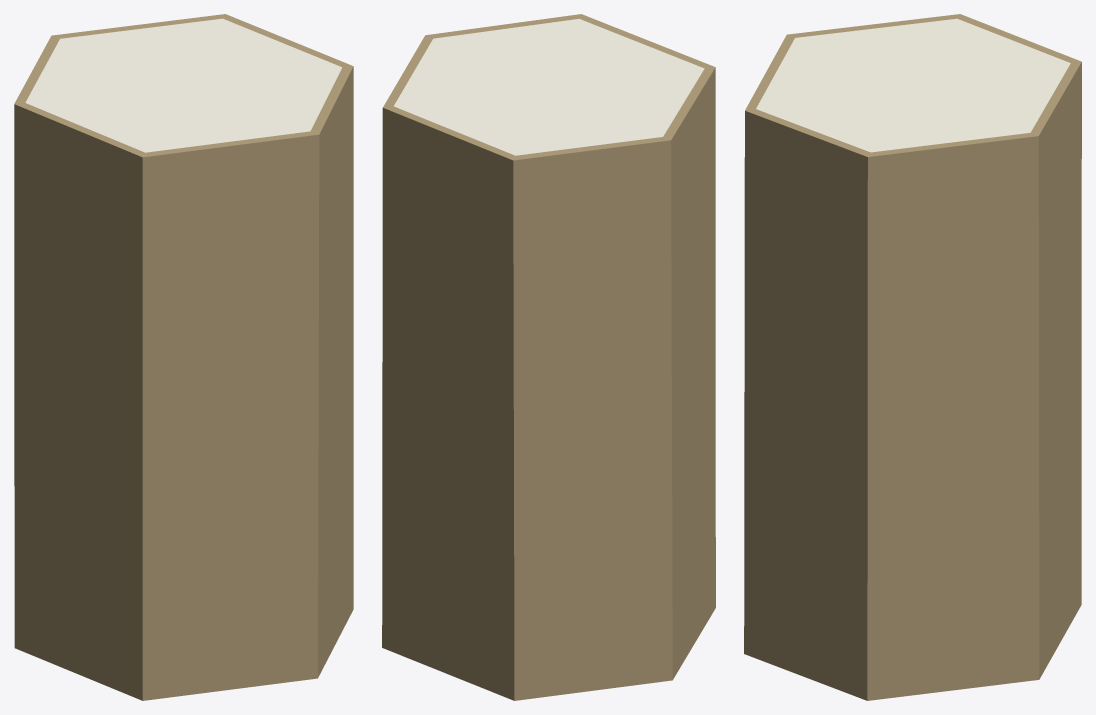
Rendered from Arbol_Cortado.fbx.
The picture shows the model from 3 angles, left to right: view 1: azimuth 30°, elevation 25°; view 2: azimuth 150°, elevation 25°; view 3: azimuth 270°, elevation 25°; orthographic projection.
Visible parts, largest first — view 1: Arbol_Cortado; view 2: Arbol_Cortado; view 3: Arbol_Cortado.
Part boxes in pixels (x1,y1,x2,y2): Arbol_Cortado: (14,14,353,700); Arbol_Cortado: (382,14,715,700); Arbol_Cortado: (744,14,1081,700).
Size of the model in its own units: 11.89 by 21.03 by 11.81.
